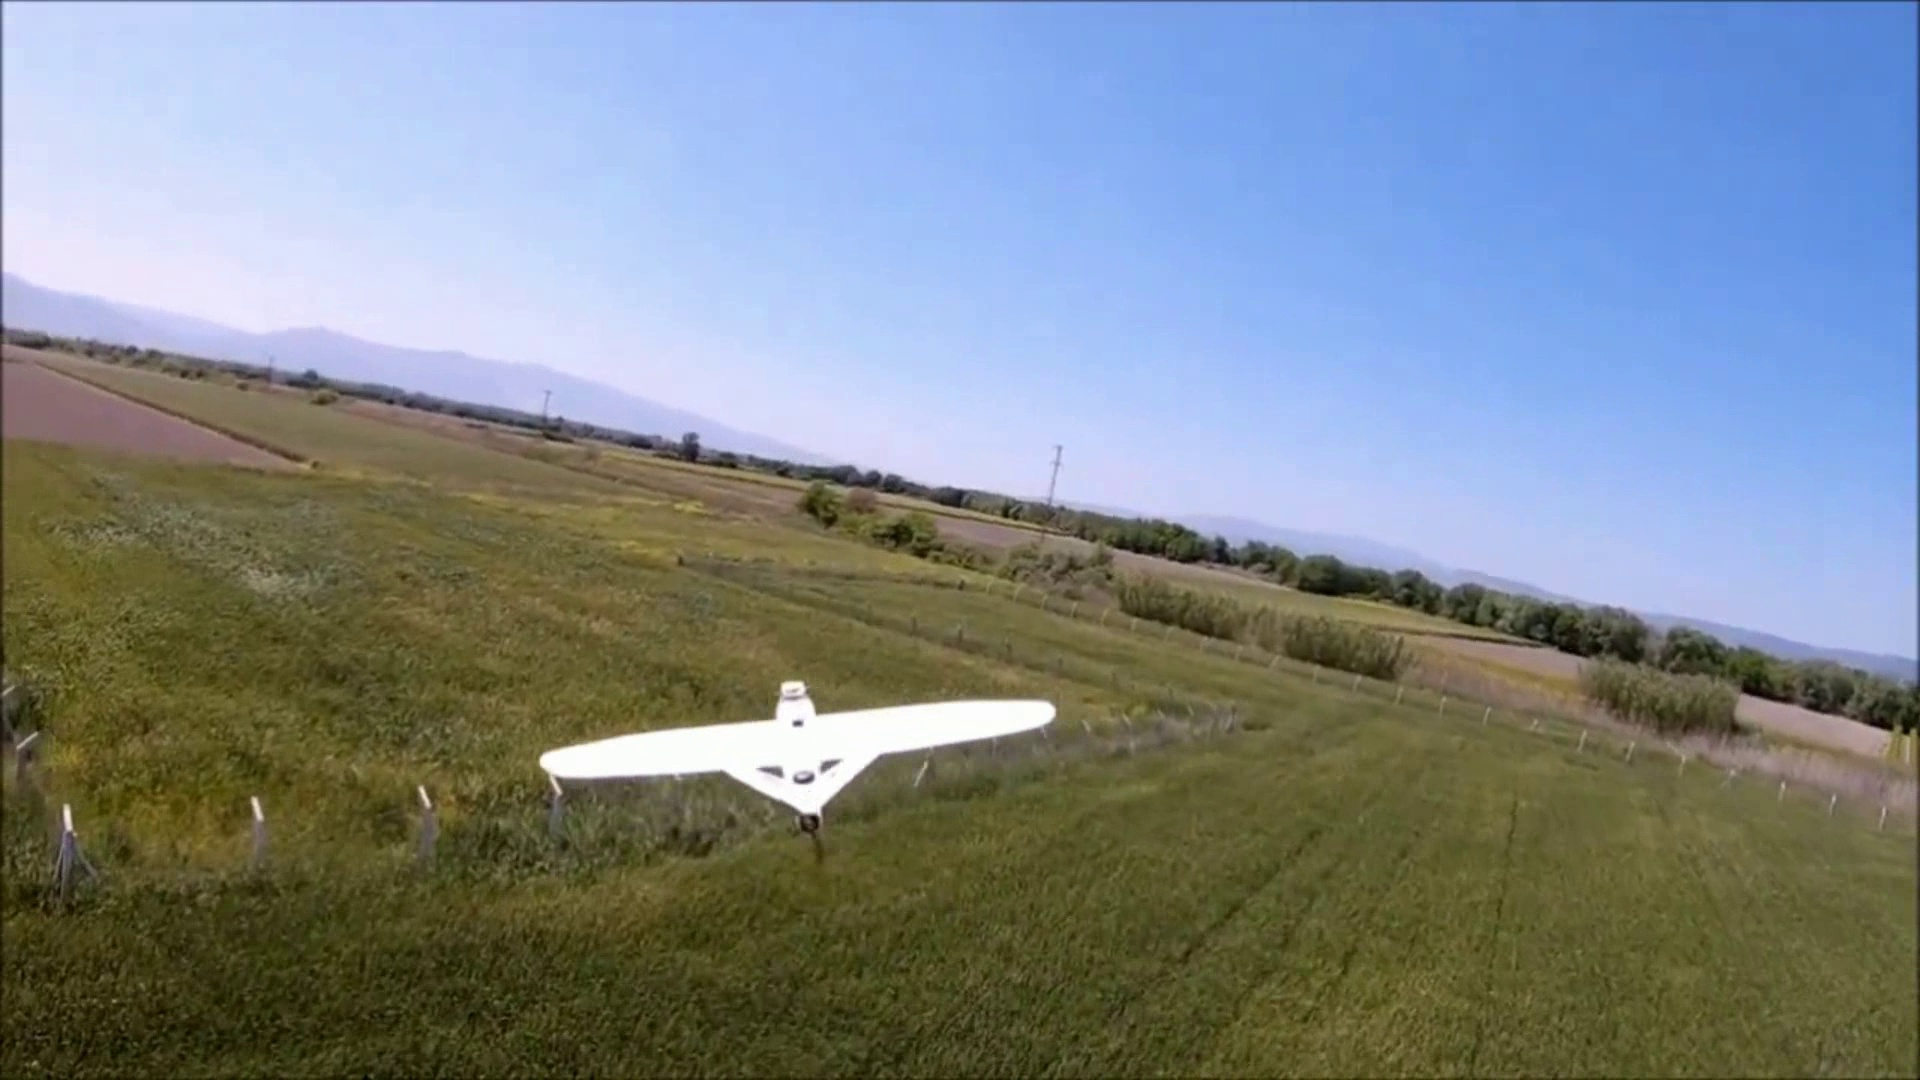airplane: (535, 679, 1055, 855)
